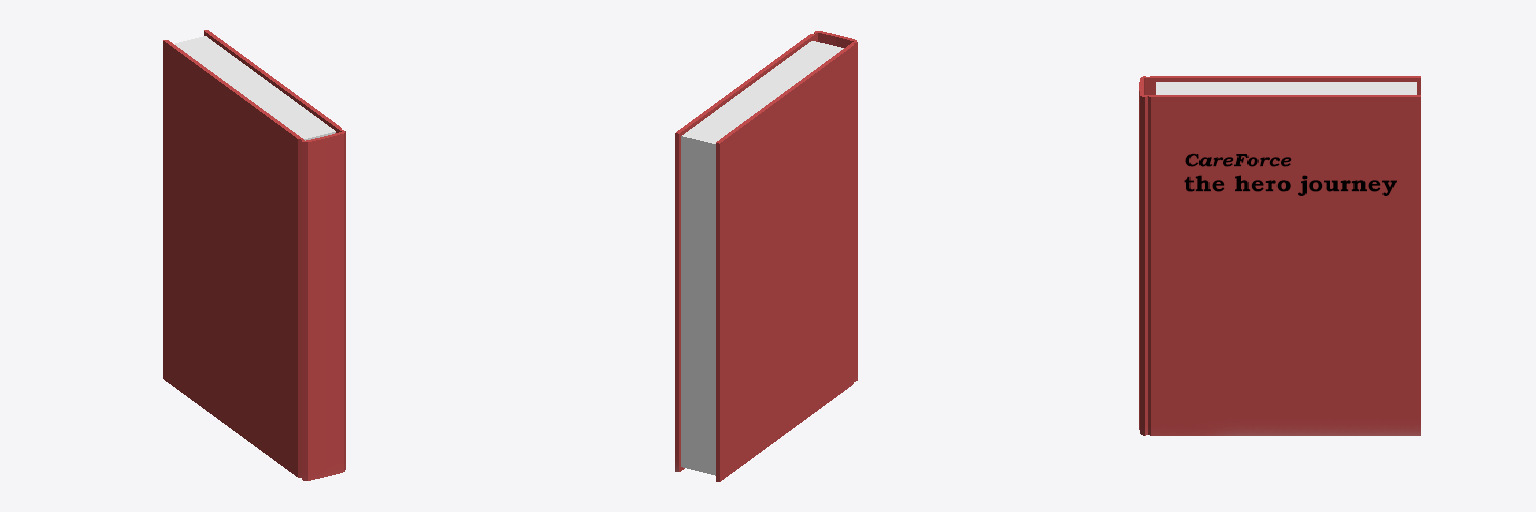
3 views of the same model, side by side, from view 1: azimuth 30°, elevation 25°; view 2: azimuth 150°, elevation 25°; view 3: azimuth 270°, elevation 25° (orthographic).
Parts seen in each view (by area): view 1: book_book.011; view 2: book_book.011; view 3: book_book.011.
Part boxes in pixels (bbox=[...]): book_book.011: bbox=[163, 30, 345, 480]; book_book.011: bbox=[675, 31, 857, 481]; book_book.011: bbox=[1139, 76, 1420, 435].
Size of the model in its own units: 0.5516 by 4.03 by 3.04.
1 materials, 1 textured.